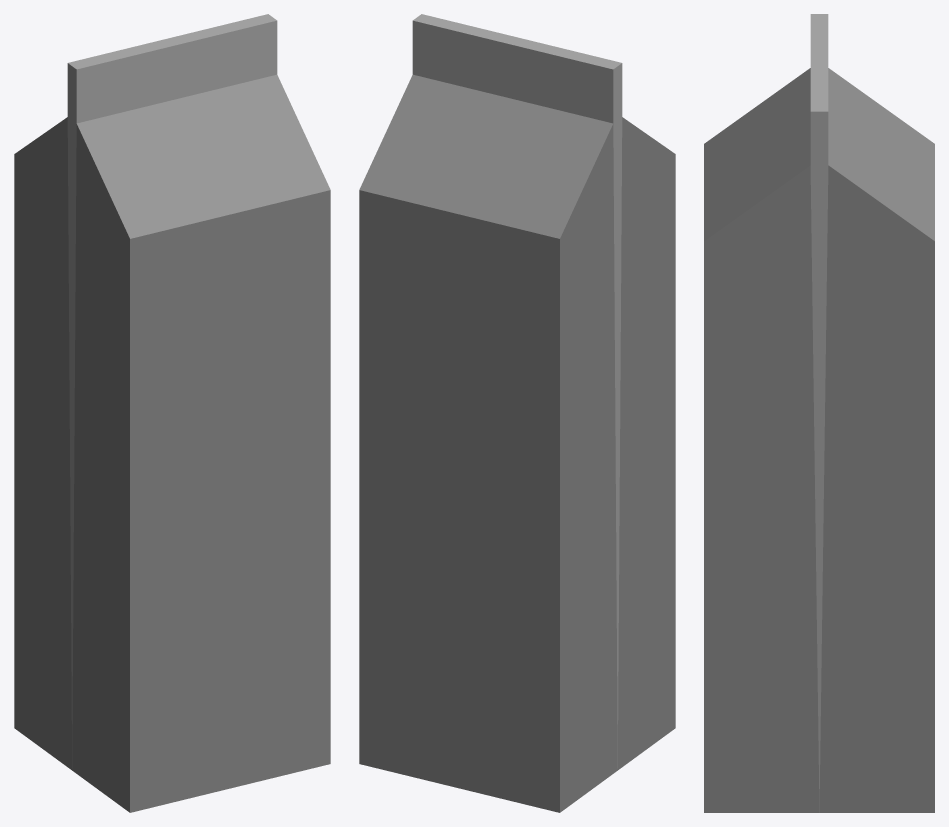
Rendered from milk_carton.FBX.
3 views of the same model, side by side, from view 1: azimuth 30°, elevation 25°; view 2: azimuth 150°, elevation 25°; view 3: azimuth 270°, elevation 25° (orthographic).
Visible parts, largest first — view 1: milk_carton; view 2: milk_carton; view 3: milk_carton.
Part boxes in pixels (x1,y1,x2,y2): milk_carton: (14, 14, 330, 812); milk_carton: (359, 14, 675, 812); milk_carton: (704, 14, 934, 812).
Bounding box in the file's own units: 5.75 × 19.28 × 5.75.
